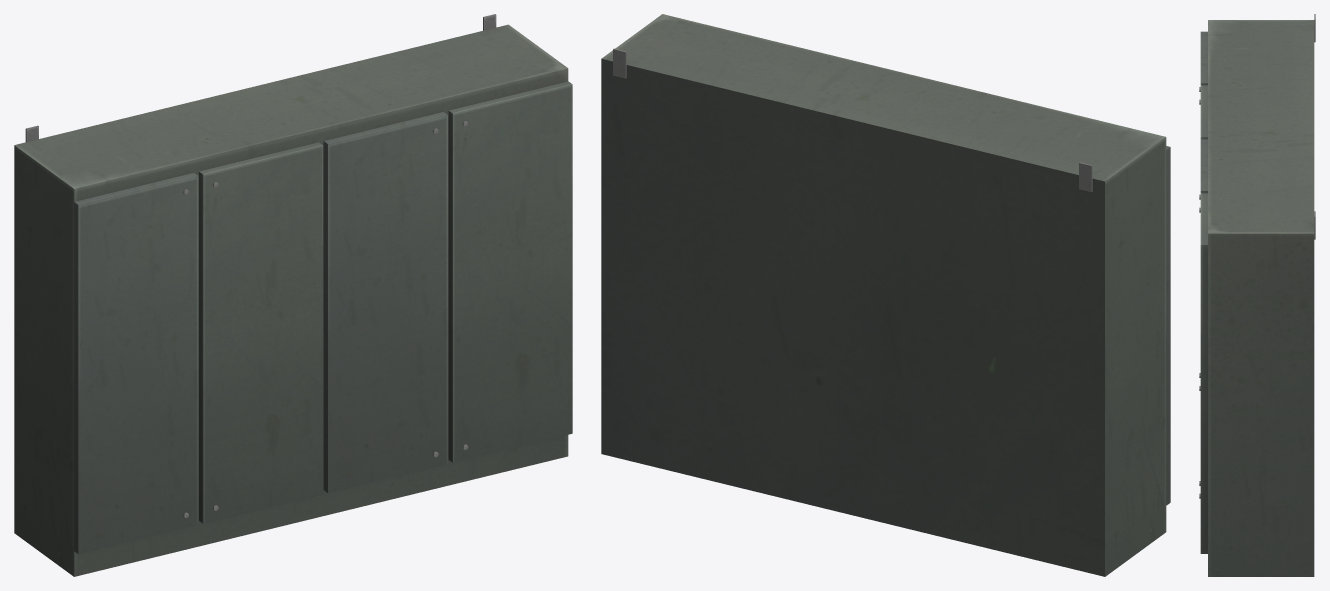
Rendered from Closet.FBX.
The picture shows the model from 3 angles, left to right: view 1: azimuth 30°, elevation 25°; view 2: azimuth 150°, elevation 25°; view 3: azimuth 270°, elevation 25°; orthographic projection. The views are drawn at different scales.
Visible parts, largest first — view 1: Closet; view 2: Closet; view 3: Closet.
Boxes of the visible parts, x1,y1,x2,y2 form: Closet: (14,14,572,576); Closet: (601,14,1170,576); Closet: (1199,14,1315,576).
Bounding box in the file's own units: 2 × 1.55 × 0.461.
